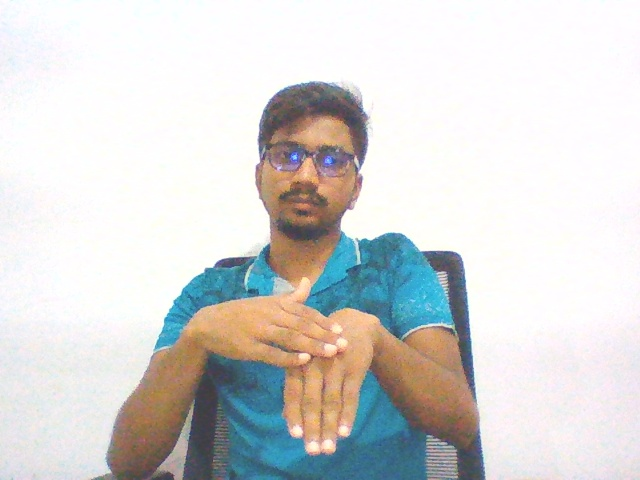pineapple: (184, 270, 385, 458)
